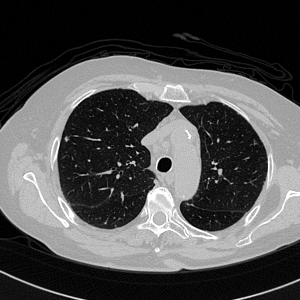nodule: (64, 136, 68, 140)
